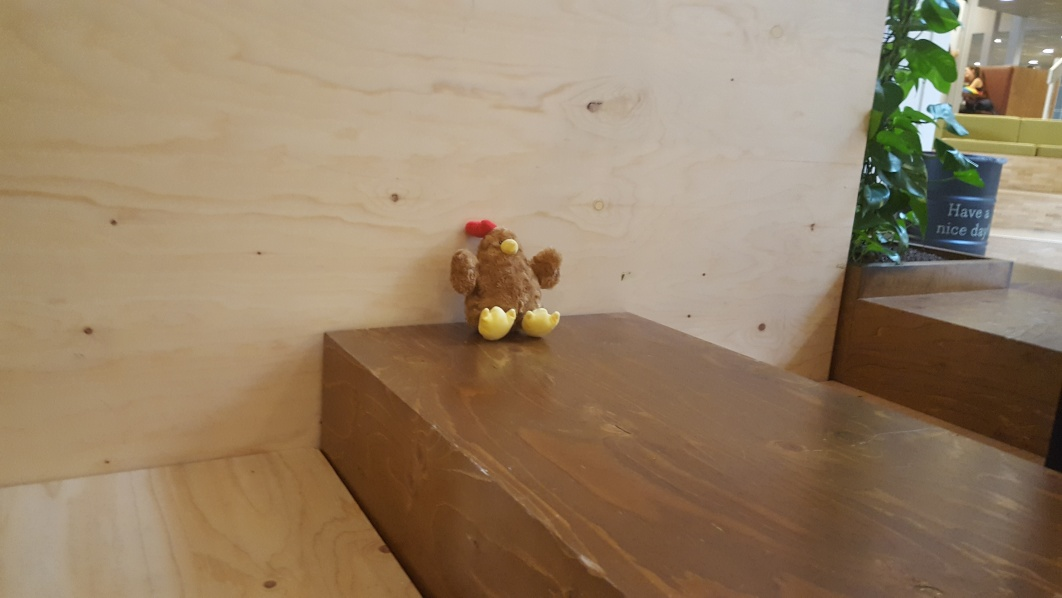chicken: (448, 215, 574, 342)
